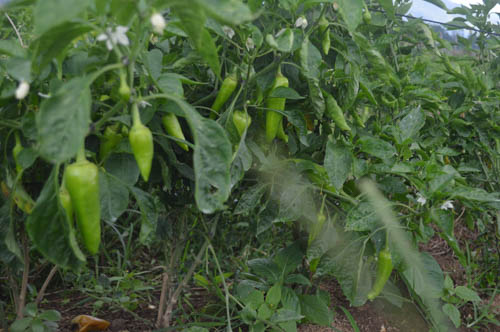ChiliPepper: (62, 165, 107, 252), (263, 79, 290, 141), (126, 129, 153, 179), (208, 77, 236, 119), (162, 116, 187, 148)
